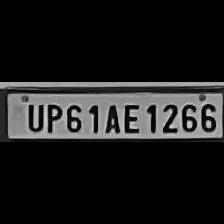1: (141, 101, 158, 133), (84, 101, 100, 133)
2: (158, 100, 178, 132)
6: (62, 101, 82, 133), (178, 100, 198, 132), (196, 100, 216, 132)
A: (100, 100, 120, 132)
E: (120, 100, 140, 132)
P: (42, 101, 62, 133)
U: (22, 100, 42, 132)
